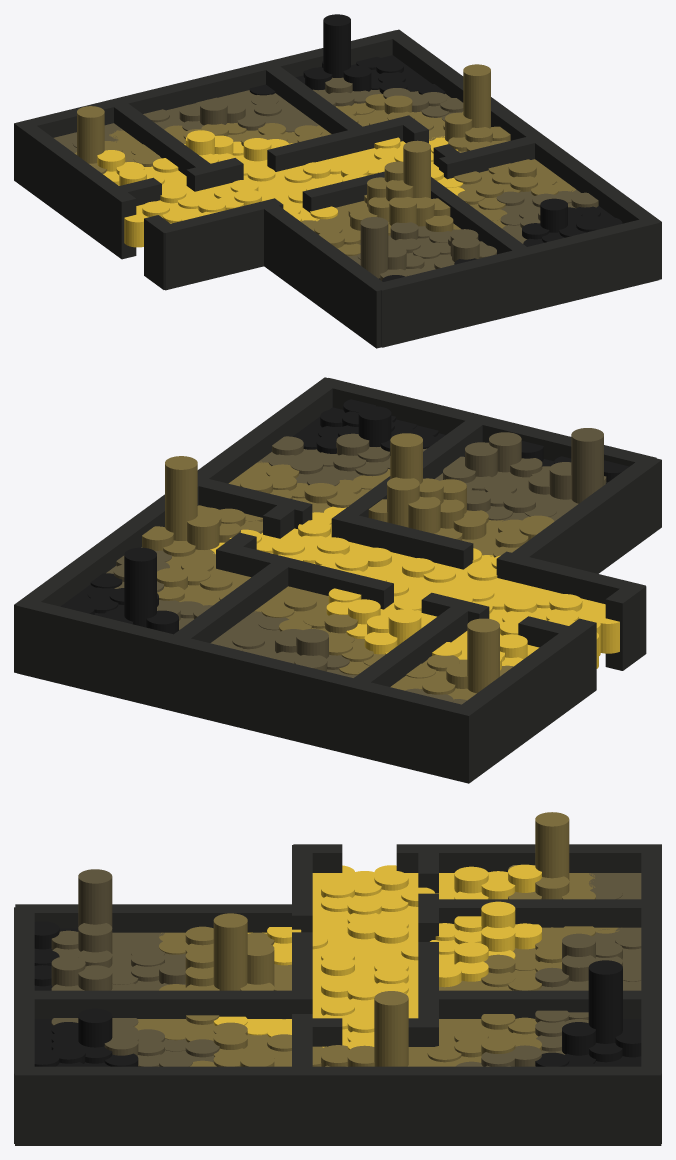
Rendered from WiFi3D.gltf.
3 views of the same model, one above another, from view 1: azimuth 30°, elevation 25°; view 2: azimuth 150°, elevation 25°; view 3: azimuth 270°, elevation 25° (orthographic). The views are drawn at different scales.
Parts seen in each view (by area): view 1: Cube.011, Cube, Cube.012, Cube.013, Cube.002, Cube.008, Cube.003, Cube.004, Cube.005, Cube.009, Cylinder.203, Cylinder.036 (+17 smaller); view 2: Cube, Cube.012, Cube.002, Cube.011, Cube.010, Cube.008, Cube.013, Cube.004, Cube.003, Cube.005, Cube.014, Cube.009 (+27 smaller); view 3: Cube.002, Cube, Cube.005, Cube.012, Cube.004, Cube.003, Cube.011, Cylinder.036, Cylinder.302, Cylinder.203, Cylinder.062, Cylinder.372 (+52 smaller).
Part boxes in pixels (box(x1,y1,x2,y2)): Cube.011: box(374, 219, 659, 347); Cube: box(14, 30, 403, 259); Cube.012: box(256, 200, 384, 348); Cube.013: box(157, 198, 283, 290); Cube.002: box(385, 29, 661, 279); Cube.008: box(267, 116, 415, 171); Cube.003: box(258, 60, 367, 135); Cube.004: box(106, 97, 217, 175); Cube.005: box(431, 177, 534, 256); Cube.009: box(439, 134, 538, 179); Cylinder.203: box(463, 64, 490, 128); Cylinder.036: box(323, 14, 350, 77); Cube: box(17, 598, 596, 783); Cube.012: box(503, 455, 661, 573); Cube.002: box(14, 377, 341, 672); Cube.011: box(320, 378, 656, 466); Cube.010: box(331, 511, 473, 569); Cube.008: box(218, 546, 393, 609); Cube.013: box(496, 551, 645, 604); Cube.004: box(344, 600, 476, 688); Cube.003: box(174, 559, 296, 643); Cube.005: box(333, 414, 491, 522); Cube.014: box(605, 583, 646, 670); Cube.009: box(197, 476, 312, 528); Cube.002: box(15, 1066, 661, 1145); Cube: box(396, 844, 661, 1143); Cube.005: box(15, 990, 311, 1018); Cube.012: box(15, 904, 311, 932); Cube.004: box(419, 899, 661, 927); Cube.003: box(419, 990, 661, 1018); Cube.011: box(14, 907, 34, 1143); Cylinder.036: box(588, 960, 622, 1043); Cylinder.302: box(213, 913, 247, 990); Cylinder.203: box(374, 991, 408, 1066); Cylinder.062: box(535, 812, 569, 880); Cylinder.372: box(78, 869, 112, 927).
Size of the model in its own units: 3.78 by 0.9994 by 4.48.
